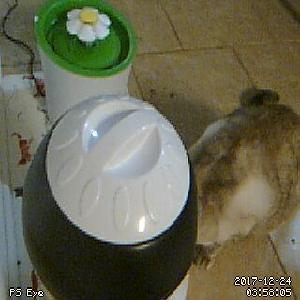cat: (185, 86, 300, 274)
fountain: (32, 1, 136, 79)
